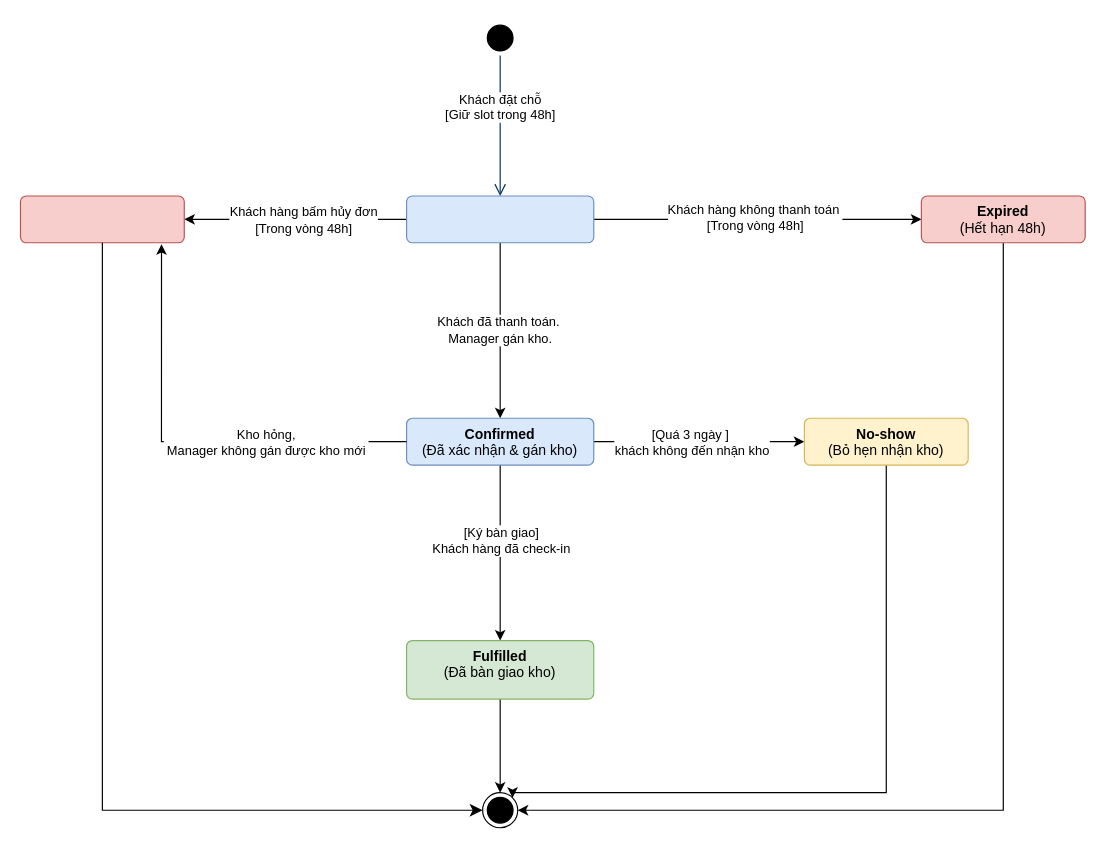
Image size: 1106x848. Some labels were removed from this diagram. The box of each missing label's shape, as (x1, y1, x2, y2) in pixels:
Cancelled (Đã hủy đơn): (19, 195, 184, 243)
Pending Payment (Chờ thanh toán trong 48h): (405, 195, 594, 243)
